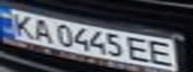0: (51, 21, 75, 47)
4: (87, 28, 109, 55), (69, 26, 90, 51)
5: (103, 32, 127, 58)
A: (27, 17, 57, 43)
E: (145, 38, 181, 68), (124, 35, 154, 64)
K: (3, 11, 39, 38)
